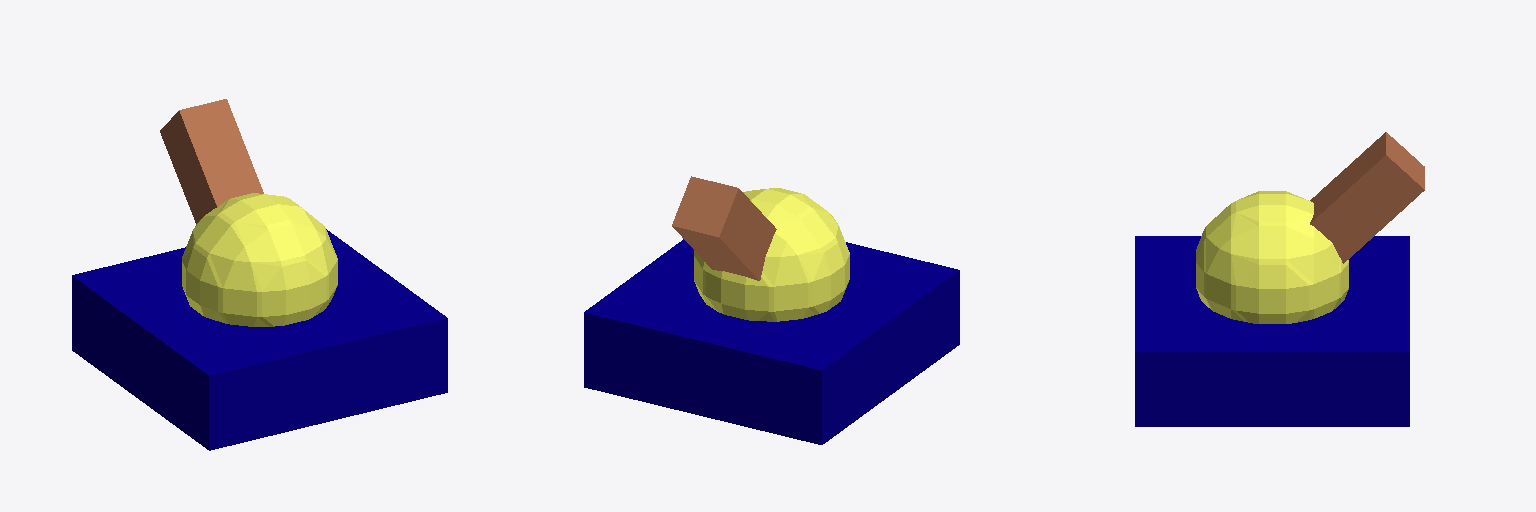
3 renders of one model, left to right at view 1: azimuth 30°, elevation 25°; view 2: azimuth 150°, elevation 25°; view 3: azimuth 270°, elevation 25°, orthographic.
Parts seen in each view (by area): view 1: 立方體_立方體.001, Mball.001, 立方體.005; view 2: 立方體_立方體.001, Mball.001, 立方體.005; view 3: 立方體_立方體.001, Mball.001, 立方體.005.
Boxes of the visible parts, <box> form: 立方體_立方體.001: <box>72,229,447,450</box>; Mball.001: <box>182,193,337,326</box>; 立方體.005: <box>160,99,263,223</box>; 立方體_立方體.001: <box>584,239,959,444</box>; Mball.001: <box>694,188,849,321</box>; 立方體.005: <box>672,176,776,280</box>; 立方體_立方體.001: <box>1135,236,1409,426</box>; Mball.001: <box>1196,191,1348,323</box>; 立方體.005: <box>1310,132,1424,263</box>.
Bounding box in the file's own units: 10 × 9.04 × 10.54.
3 materials, 3 textured.